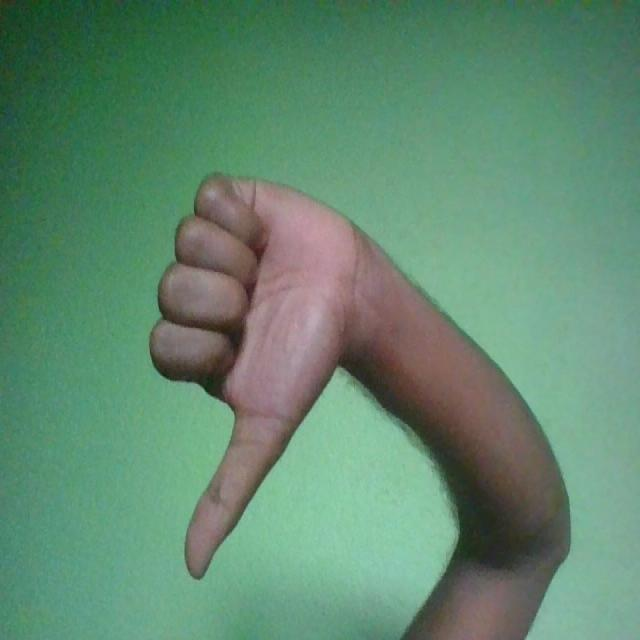Dislike: (148, 172, 364, 582)
